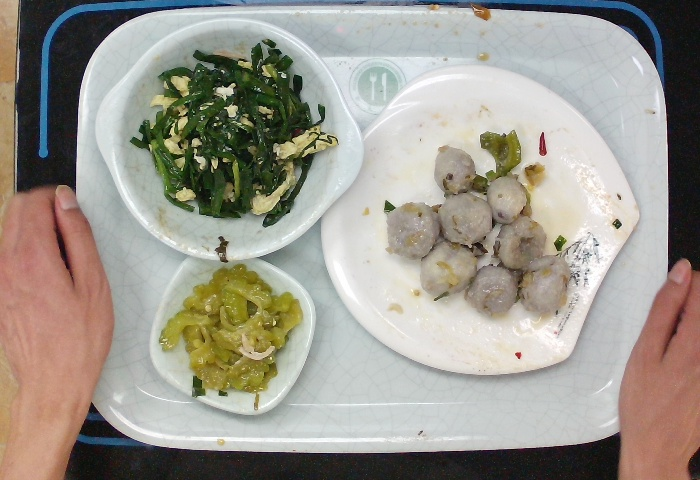JYsf-Mian_Pan: (317, 60, 644, 382)
JYsf-Shuang_Er_Wan: (89, 13, 368, 268)
JYsf-Si_Fang_Die: (144, 248, 321, 422)
